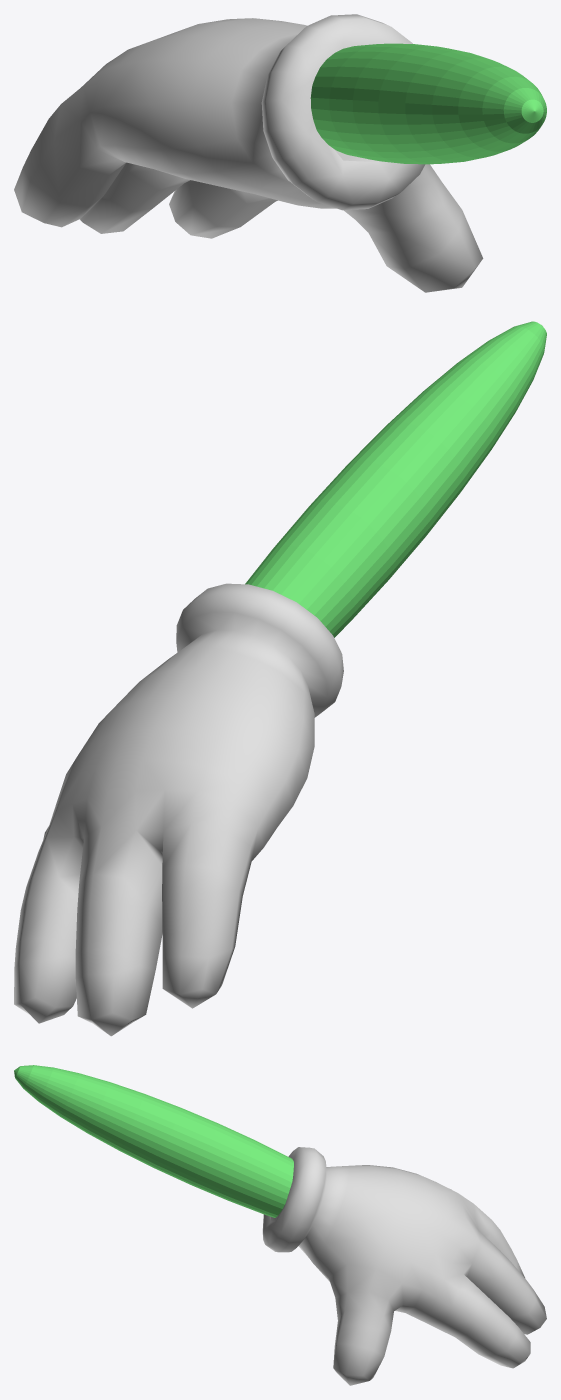
File: Rhand_ns.glb
3 renders of one model, top to bottom at view 1: azimuth 30°, elevation 25°; view 2: azimuth 150°, elevation 25°; view 3: azimuth 270°, elevation 25°, orthographic. The views are drawn at different scales.
Parts seen in each view (by area): view 1: default.001, Sphere.001; view 2: default.001, Sphere.001; view 3: default.001, Sphere.001.
Boxes of the visible parts, left/top/right/bottom form: default.001: left=14, top=14, right=483, bottom=292; Sphere.001: left=310, top=43, right=546, bottom=164; default.001: left=14, top=583, right=343, bottom=1036; Sphere.001: left=245, top=321, right=546, bottom=637; default.001: left=262, top=1147, right=546, bottom=1385; Sphere.001: left=14, top=1065, right=293, bottom=1217.
Bounding box in the file's own units: 0.3614 × 0.5074 × 0.9061.
